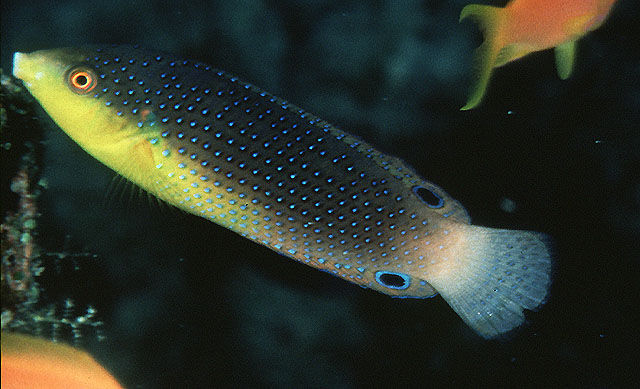fish: (12, 45, 552, 338)
